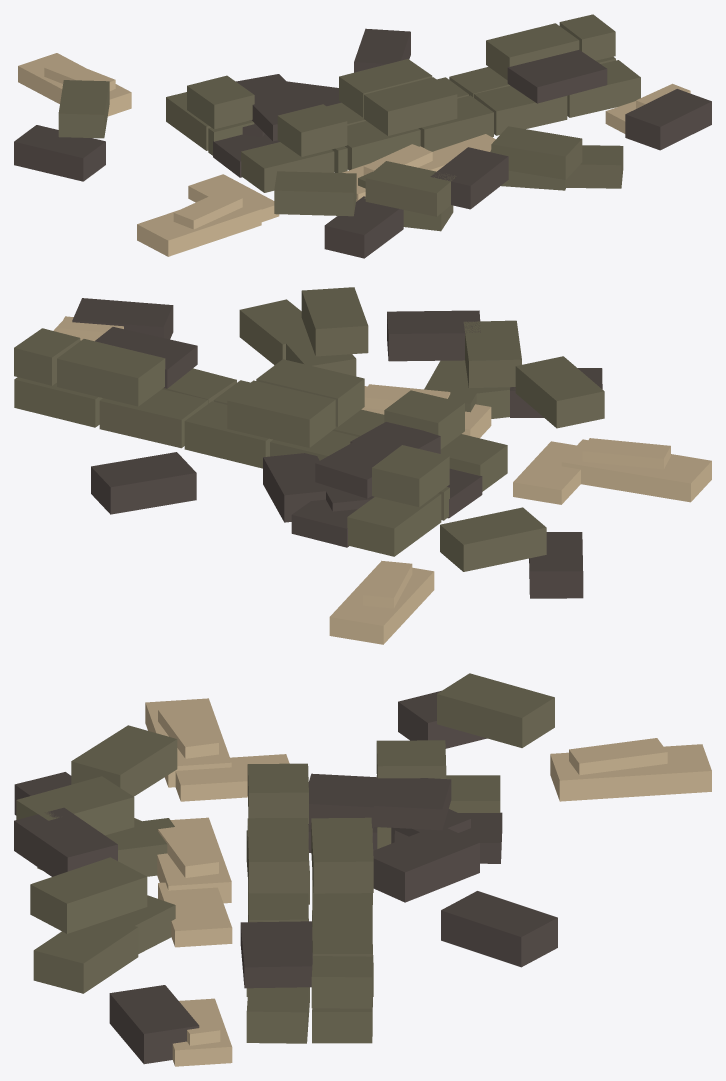
File: SM_SacosRemate_v0_Recto_e2_MuyDanado_LOD0.fbx
The picture shows the model from 3 angles, top to bottom: view 1: azimuth 30°, elevation 25°; view 2: azimuth 150°, elevation 25°; view 3: azimuth 270°, elevation 25°; orthographic projection. The views are drawn at different scales.
Visible parts, largest first — view 1: SM_sacos_piezas_v22_LOD0; view 2: SM_sacos_piezas_v22_LOD0; view 3: SM_sacos_piezas_v22_LOD0.
Part boxes in pixels (x1,y1,x2,y2): SM_sacos_piezas_v22_LOD0: (14, 14, 711, 258); SM_sacos_piezas_v22_LOD0: (14, 287, 711, 644); SM_sacos_piezas_v22_LOD0: (14, 673, 711, 1066).
Bounding box in the file's own units: 6.58 × 0.585 × 5.44.
